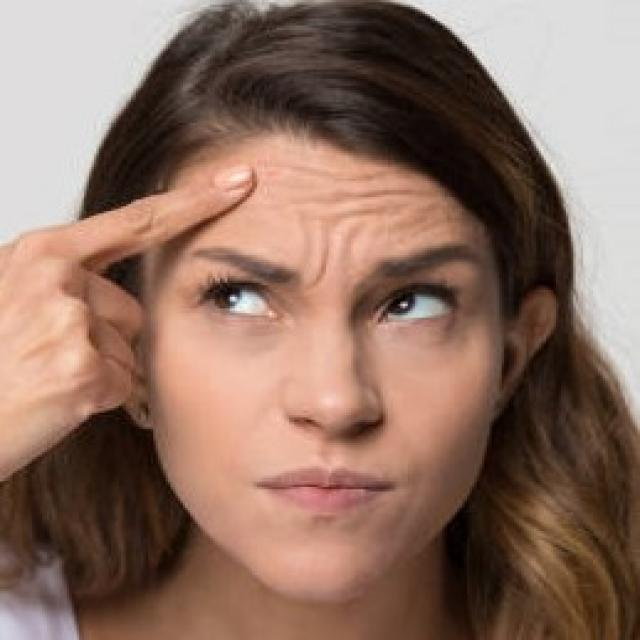Wrinkles: (313, 230, 334, 287), (256, 163, 327, 174), (363, 191, 432, 198), (338, 213, 382, 219), (327, 174, 350, 181), (360, 174, 390, 178)
